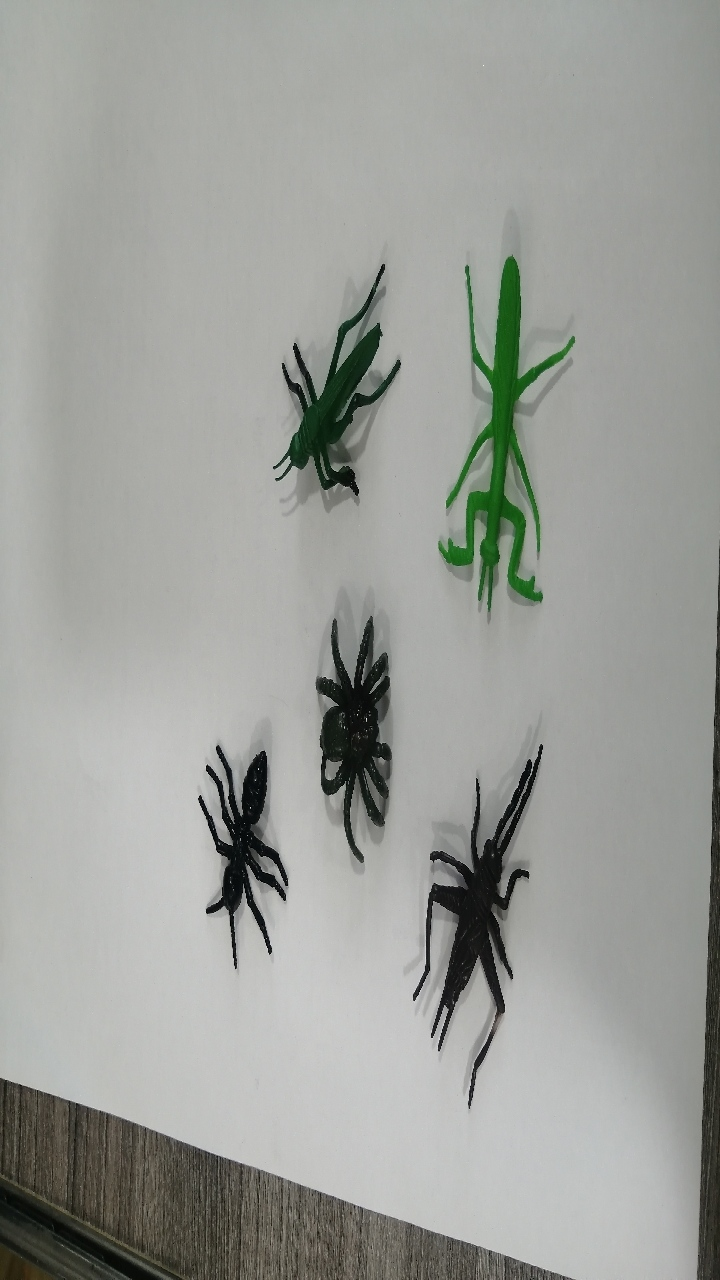intruso: (395, 205, 614, 663), (378, 723, 603, 1106), (134, 703, 332, 1011), (200, 252, 409, 520), (271, 620, 444, 865)
